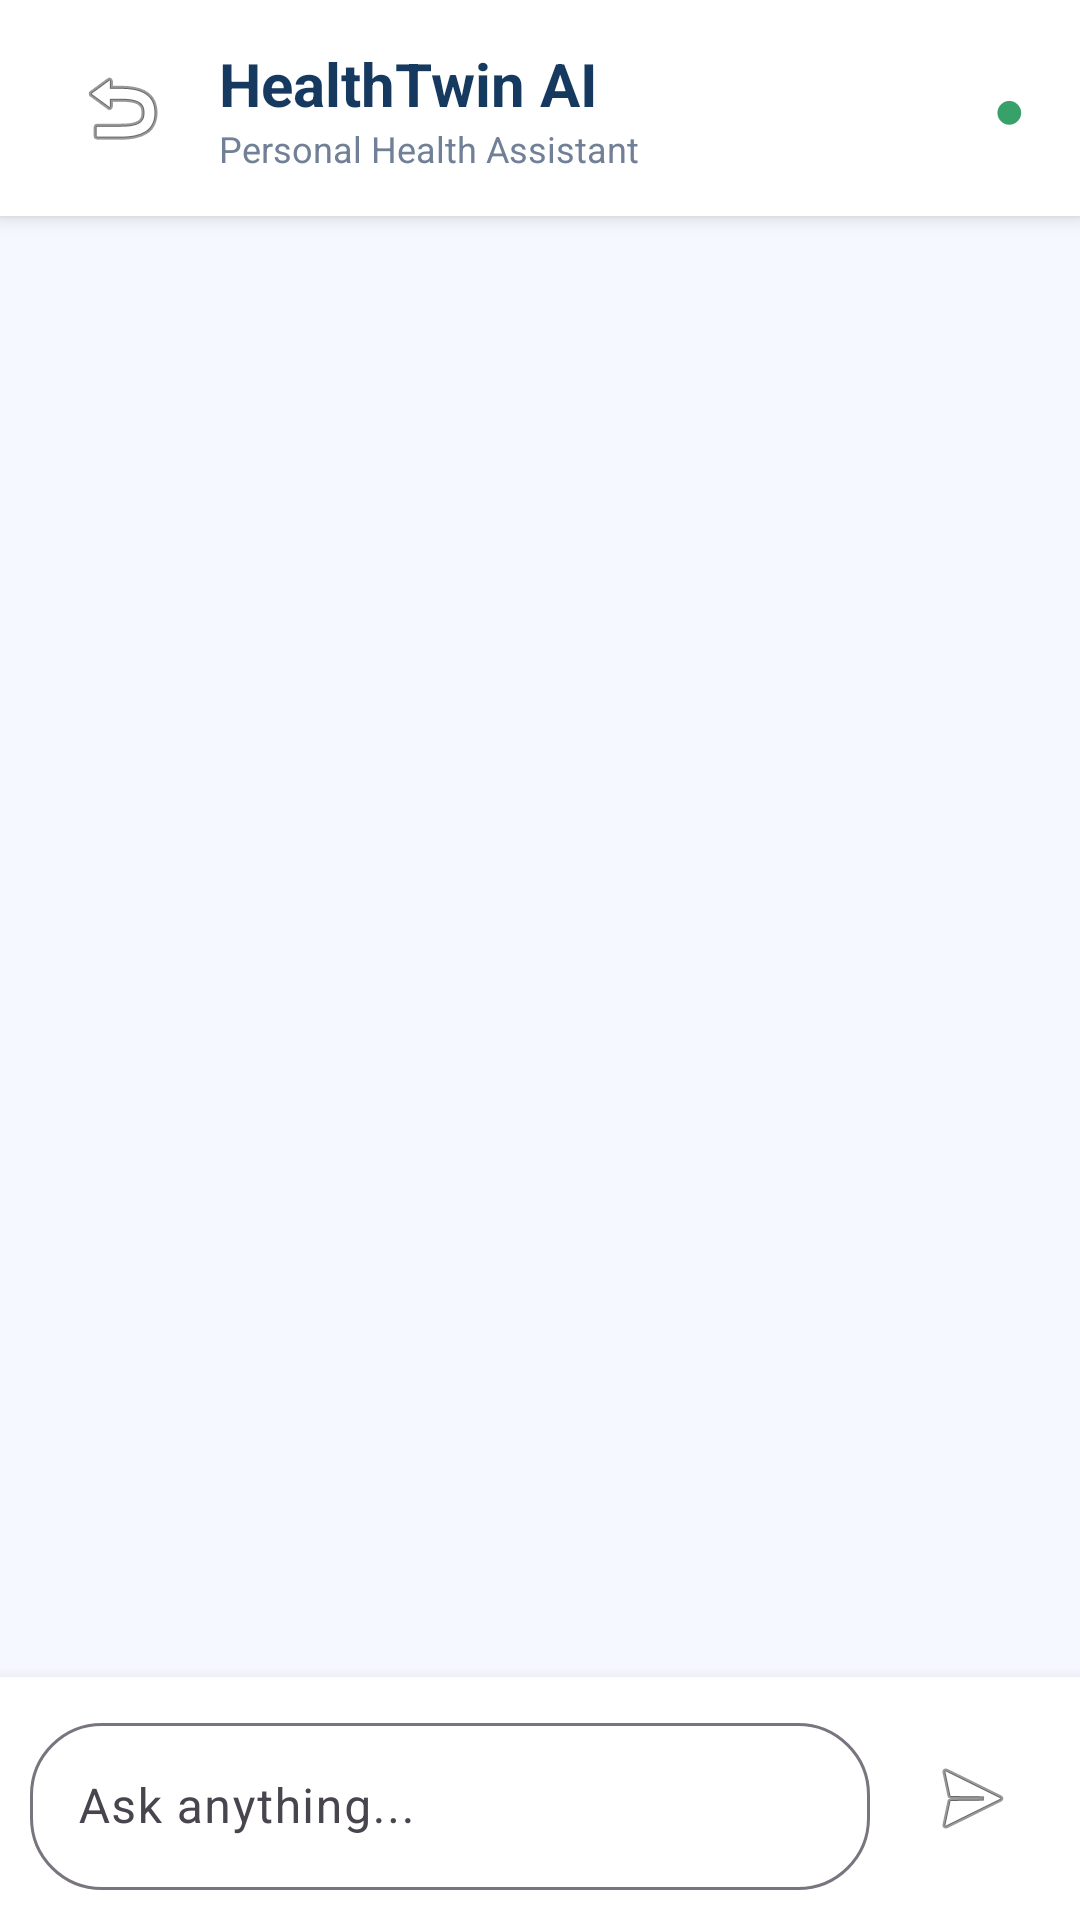

Named icons in this screenshot (1080px×1920px) and their centers, [x,y]:
Back: [123,108]
Send message: [973,1798]
